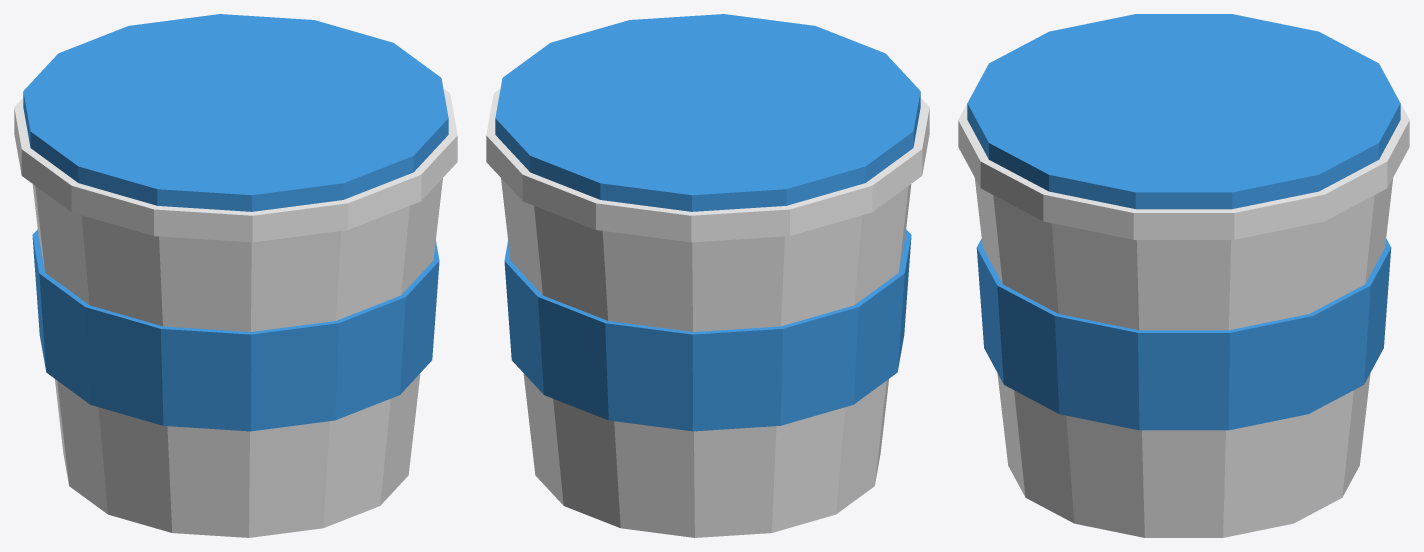
File: Yogurt_Model.fbx
The picture shows the model from 3 angles, left to right: view 1: azimuth 30°, elevation 25°; view 2: azimuth 150°, elevation 25°; view 3: azimuth 270°, elevation 25°; orthographic projection.
Parts seen in each view (by area): view 1: Yogurt_Model; view 2: Yogurt_Model; view 3: Yogurt_Model.
Part boxes in pixels (<box>): Yogurt_Model: <box>14,14,457,537</box>; Yogurt_Model: <box>486,14,929,537</box>; Yogurt_Model: <box>958,14,1409,537</box>.
Bounding box in the file's own units: 23.79 × 21.6 × 24.4.
